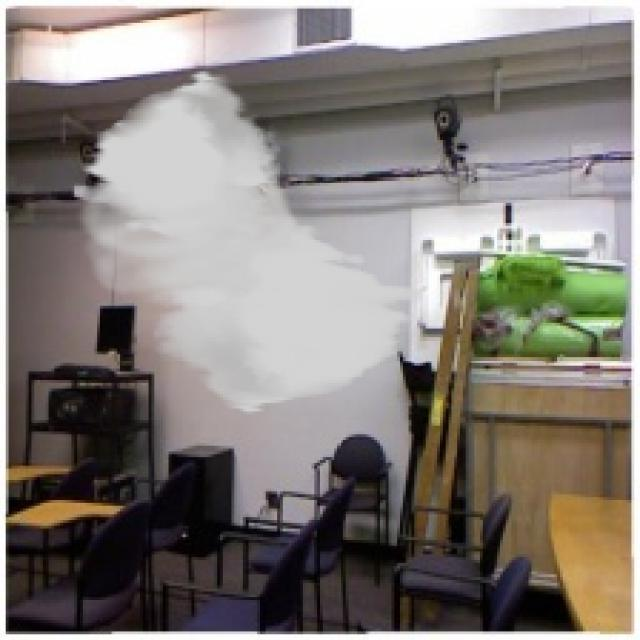Smoke: (71, 68, 423, 414)
